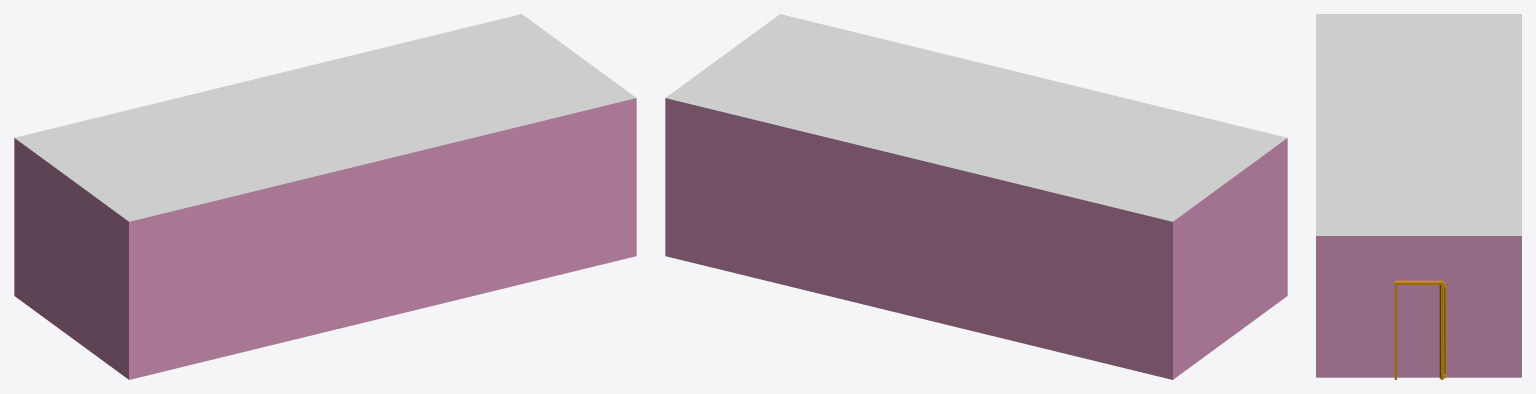
Rendered from Room777.fbx.
The picture shows the model from 3 angles, left to right: view 1: azimuth 30°, elevation 25°; view 2: azimuth 150°, elevation 25°; view 3: azimuth 270°, elevation 25°; orthographic projection. The views are drawn at different scales.
Parts seen in each view (by area): view 1: Room; view 2: Room; view 3: Room, DoorFrame, Door.
Part boxes in pixels (x1,y1,x2,y2): Room: (14, 14, 636, 379); Room: (665, 14, 1287, 379); Room: (1316, 14, 1521, 377); DoorFrame: (1394, 280, 1443, 379); Door: (1439, 282, 1446, 378).
Bounding box in the file's own units: 2440 × 728 × 946.
